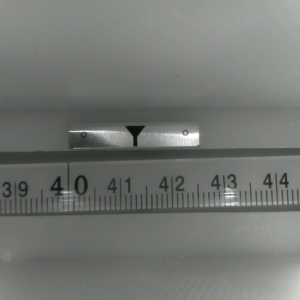0: (73, 175, 88, 195)
1: (124, 178, 130, 193)
2: (174, 176, 185, 192)
3: (1, 182, 12, 198), (226, 174, 236, 189)
4: (49, 176, 65, 196), (278, 173, 289, 188), (106, 178, 117, 193), (158, 176, 168, 192), (210, 174, 220, 190), (262, 173, 272, 188)
9: (17, 181, 28, 197)
finger: (123, 126, 145, 147)
